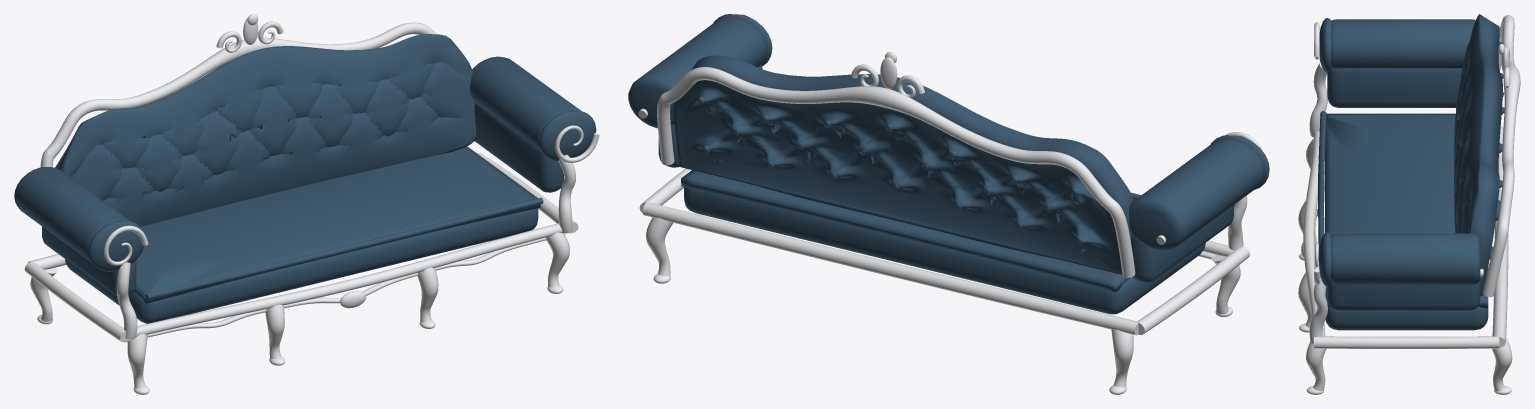
3 views of the same model, side by side, from view 1: azimuth 30°, elevation 25°; view 2: azimuth 150°, elevation 25°; view 3: azimuth 270°, elevation 25° (orthographic). The views are drawn at different scales.
Parts seen in each view (by area): view 1: back, arm_face_1, apron_scallop; view 2: back, arm_face_1, apron_scallop, button; view 3: arm_face_1, back, apron_scallop.
Part boxes in pixels (left/top/right/bottom): back: left=55, top=34, right=540, bottom=303; arm_face_1: left=14, top=56, right=596, bottom=323; apron_scallop: left=24, top=14, right=599, bottom=394; back: left=673, top=55, right=1135, bottom=292; arm_face_1: left=628, top=14, right=1269, bottom=314; apron_scallop: left=638, top=51, right=1262, bottom=394; button: left=698, top=97, right=1083, bottom=244; arm_face_1: left=1318, top=18, right=1488, bottom=330; back: left=1325, top=14, right=1504, bottom=307; apron_scallop: left=1298, top=15, right=1520, bottom=394.
Bounding box in the file's own units: 2.16 × 1.05 × 0.8421.
